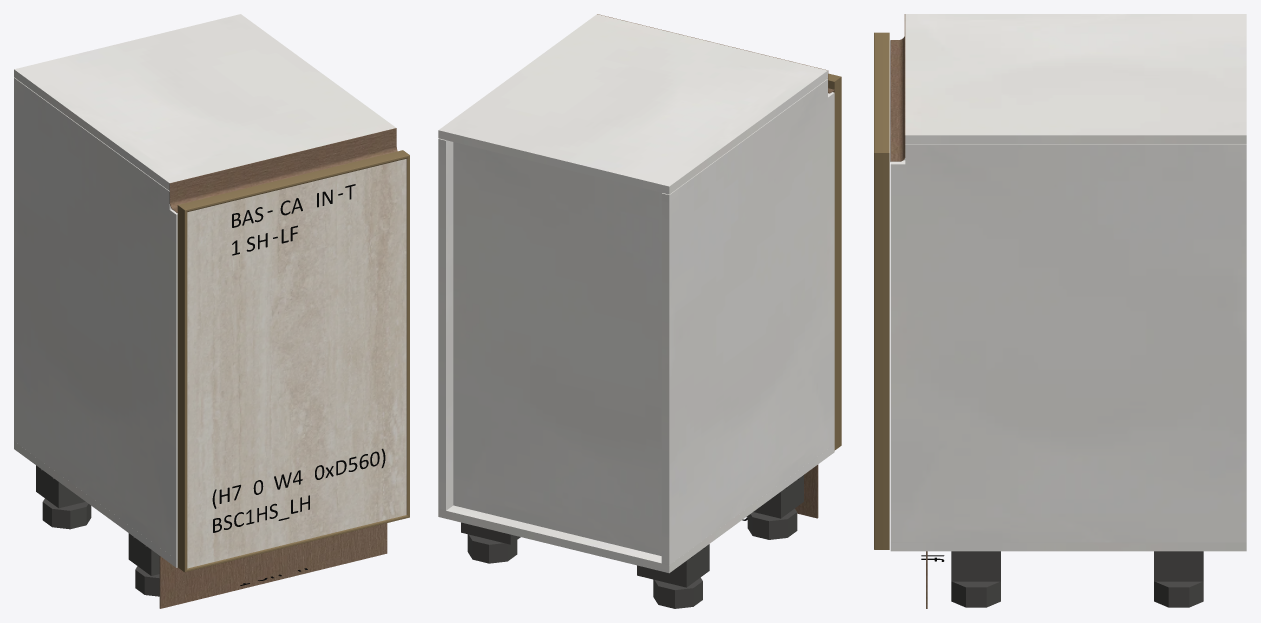
Rendered from BC-SH-CJ-ST-1SX-LHS-XXX-450-720-560-15.glb.
3 views of the same model, side by side, from view 1: azimuth 30°, elevation 25°; view 2: azimuth 150°, elevation 25°; view 3: azimuth 270°, elevation 25° (orthographic). The views are drawn at different scales.
Visible parts, largest first — view 1: Object_node_11, TP_node, TP_node_1, Object_node_13, ExtrSplGeo, Extrusion_node_1, Extrusion, 2D text_node, Extrusion_node, TP, Foot, Plate (+4 smaller); view 2: TP_node_3, TP_node, TP_node_1, TP_node_0, TP, Extrusion_node_1, Plate, Foot_node_0, Foot, Foot_node, Plate_node_0, Object_node_13 (+1 smaller); view 3: TP_node_0, TP_node_1, Extrusion_node, TP, ExtrSplGeo, Extrusion, Plate_node, Plate_node_1, Foot_node, Foot_node_1.
Boxes of the visible parts, box(x1,y1,x2,y2) form: Object_node_11: box(187, 159, 406, 568); TP_node: box(14, 77, 177, 559); TP_node_1: box(14, 14, 395, 190); Object_node_13: box(159, 523, 387, 608); ExtrSplGeo: box(169, 128, 397, 212); Extrusion_node_1: box(177, 205, 187, 572); Extrusion: box(178, 150, 409, 211); 2D text_node: box(212, 448, 385, 532); Extrusion_node: box(406, 156, 409, 516); TP: box(14, 441, 177, 567); Foot: box(42, 498, 91, 529); Plate: box(36, 465, 85, 508); TP_node_3: box(453, 142, 661, 555); TP_node: box(661, 79, 834, 564); TP_node_1: box(438, 14, 827, 194); TP_node_0: box(438, 138, 453, 510); TP: box(438, 444, 834, 573); Extrusion_node_1: box(828, 77, 841, 450); Plate: box(637, 544, 709, 587); Foot_node_0: box(747, 508, 797, 539); Foot: box(653, 577, 702, 608); Foot_node: box(467, 534, 517, 563); Plate_node_0: box(753, 475, 803, 518); Object_node_13: box(795, 464, 818, 518); TP_node_0: box(890, 144, 1246, 542); TP_node_1: box(905, 14, 1246, 143); Extrusion_node: box(874, 153, 889, 549); TP: box(890, 542, 1246, 551); ExtrSplGeo: box(890, 14, 905, 161); Extrusion: box(874, 32, 889, 152); Plate_node: box(1154, 551, 1203, 581); Plate_node_1: box(951, 551, 1000, 581); Foot_node: box(1154, 581, 1203, 607); Foot_node_1: box(951, 581, 1000, 607).
Size of what is drawn, in the model's own units: 0.45 by 0.82 by 0.5899.
Materials: 6 (3 with a texture image).
